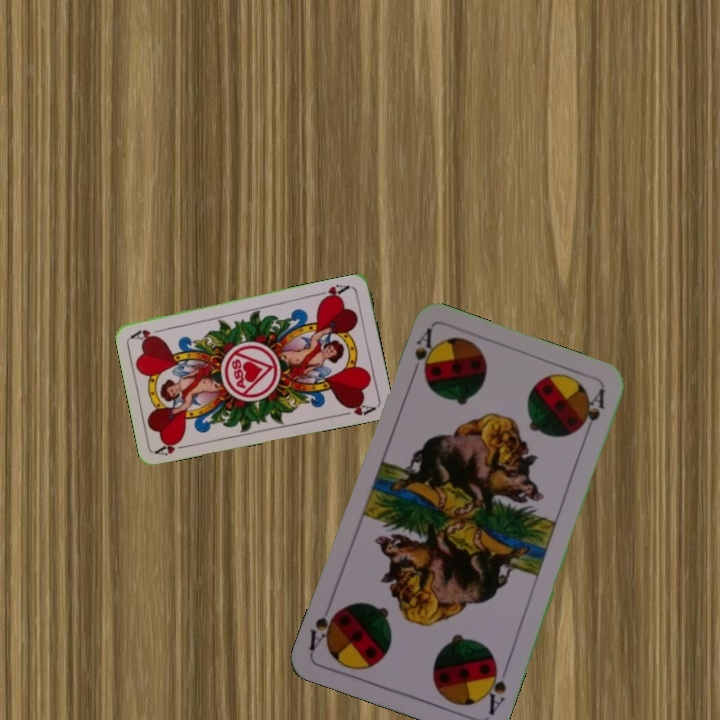HA: (313, 280, 353, 304), (152, 435, 193, 458)
SA: (479, 657, 511, 718), (407, 324, 436, 382)
